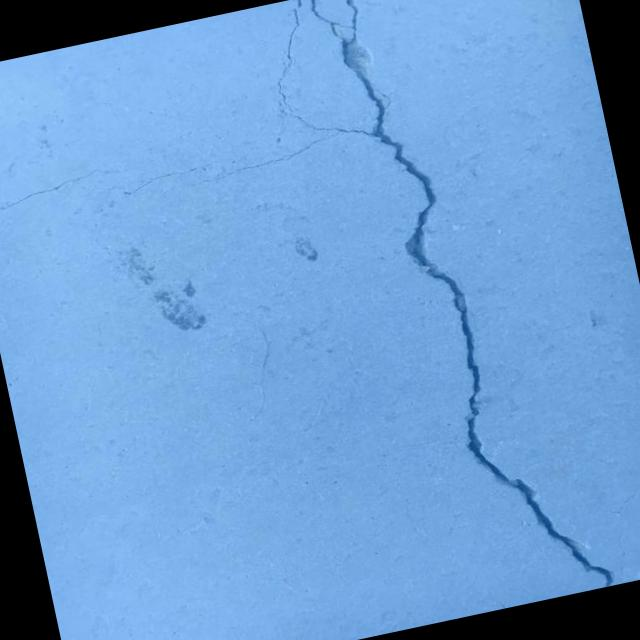crack: (152, 0, 617, 640), (0, 160, 146, 221), (85, 163, 212, 203), (589, 472, 640, 518), (614, 534, 631, 571)
